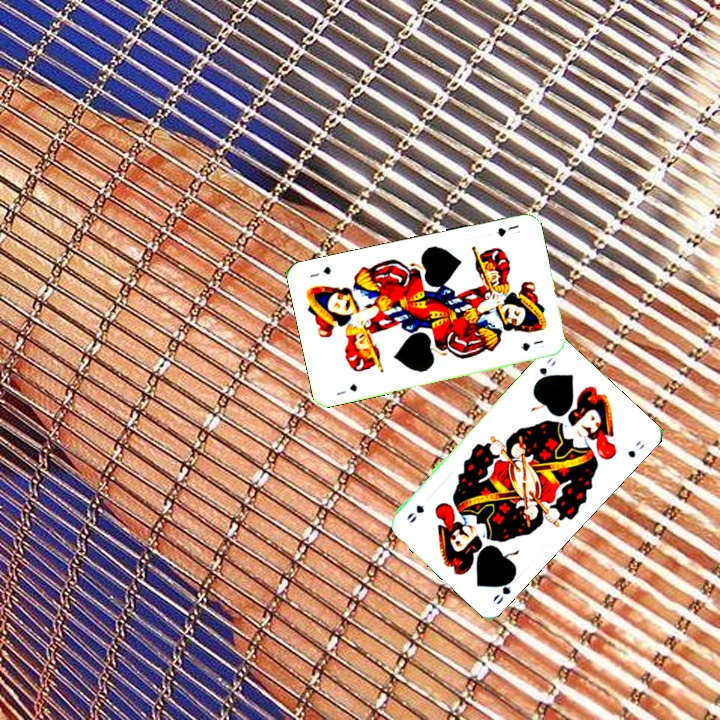GO: (489, 571, 518, 607), (531, 353, 559, 386)
GU: (492, 220, 523, 239), (332, 380, 360, 398)
